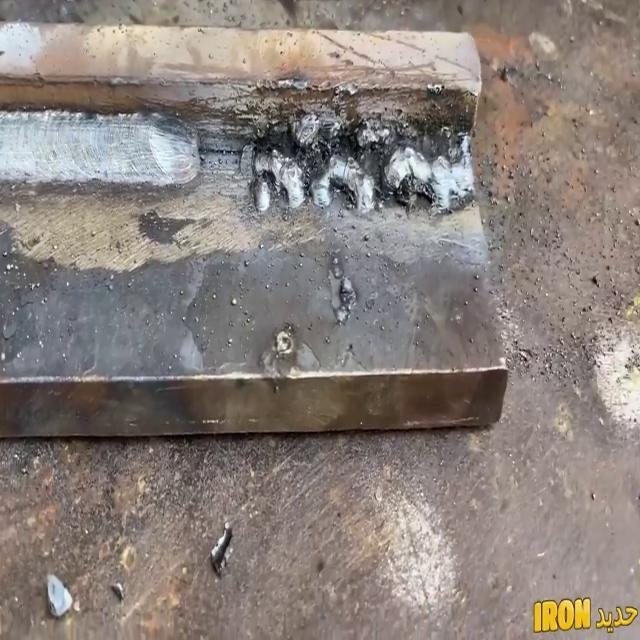Bad Welding: (240, 113, 474, 213)
Good Welding: (0, 111, 200, 187)
